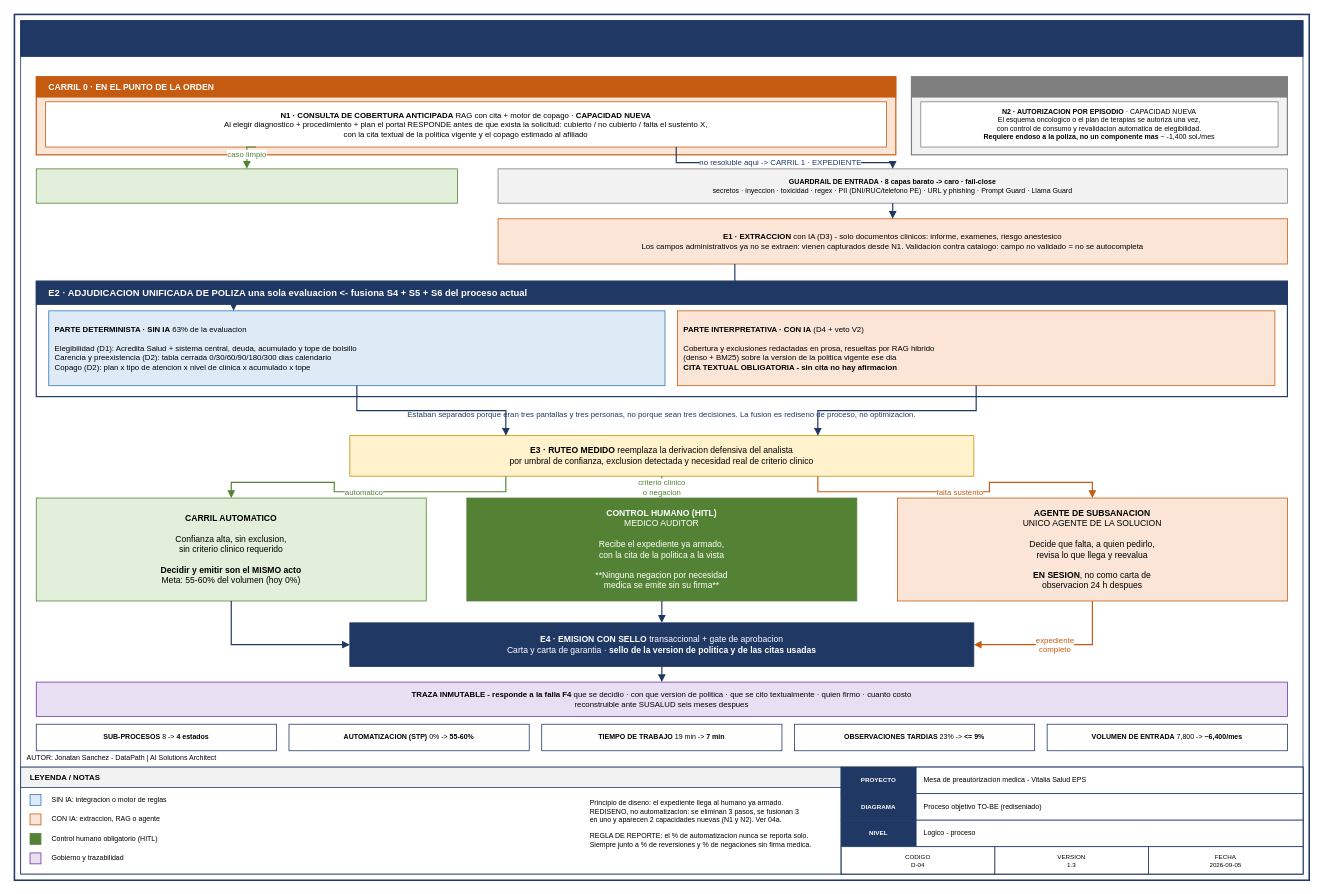
Image size: 1323x894. Some labels were removed from this diagram. Here are the shapes that lost their labels. From the top down, the centre of each, then its label:
pixel 661 38: PROCESO OBJETIVO (TO-BE) - TRES CARRILES, CUATRO ESTADOS
pixel 1099 86: CARRIL 2 · EPISODIO (fase condicional)
pixel 246 185: AUTORIZADO EN EL ACTO caso limpio con sustento adjunto -> cero toques, cero cola
